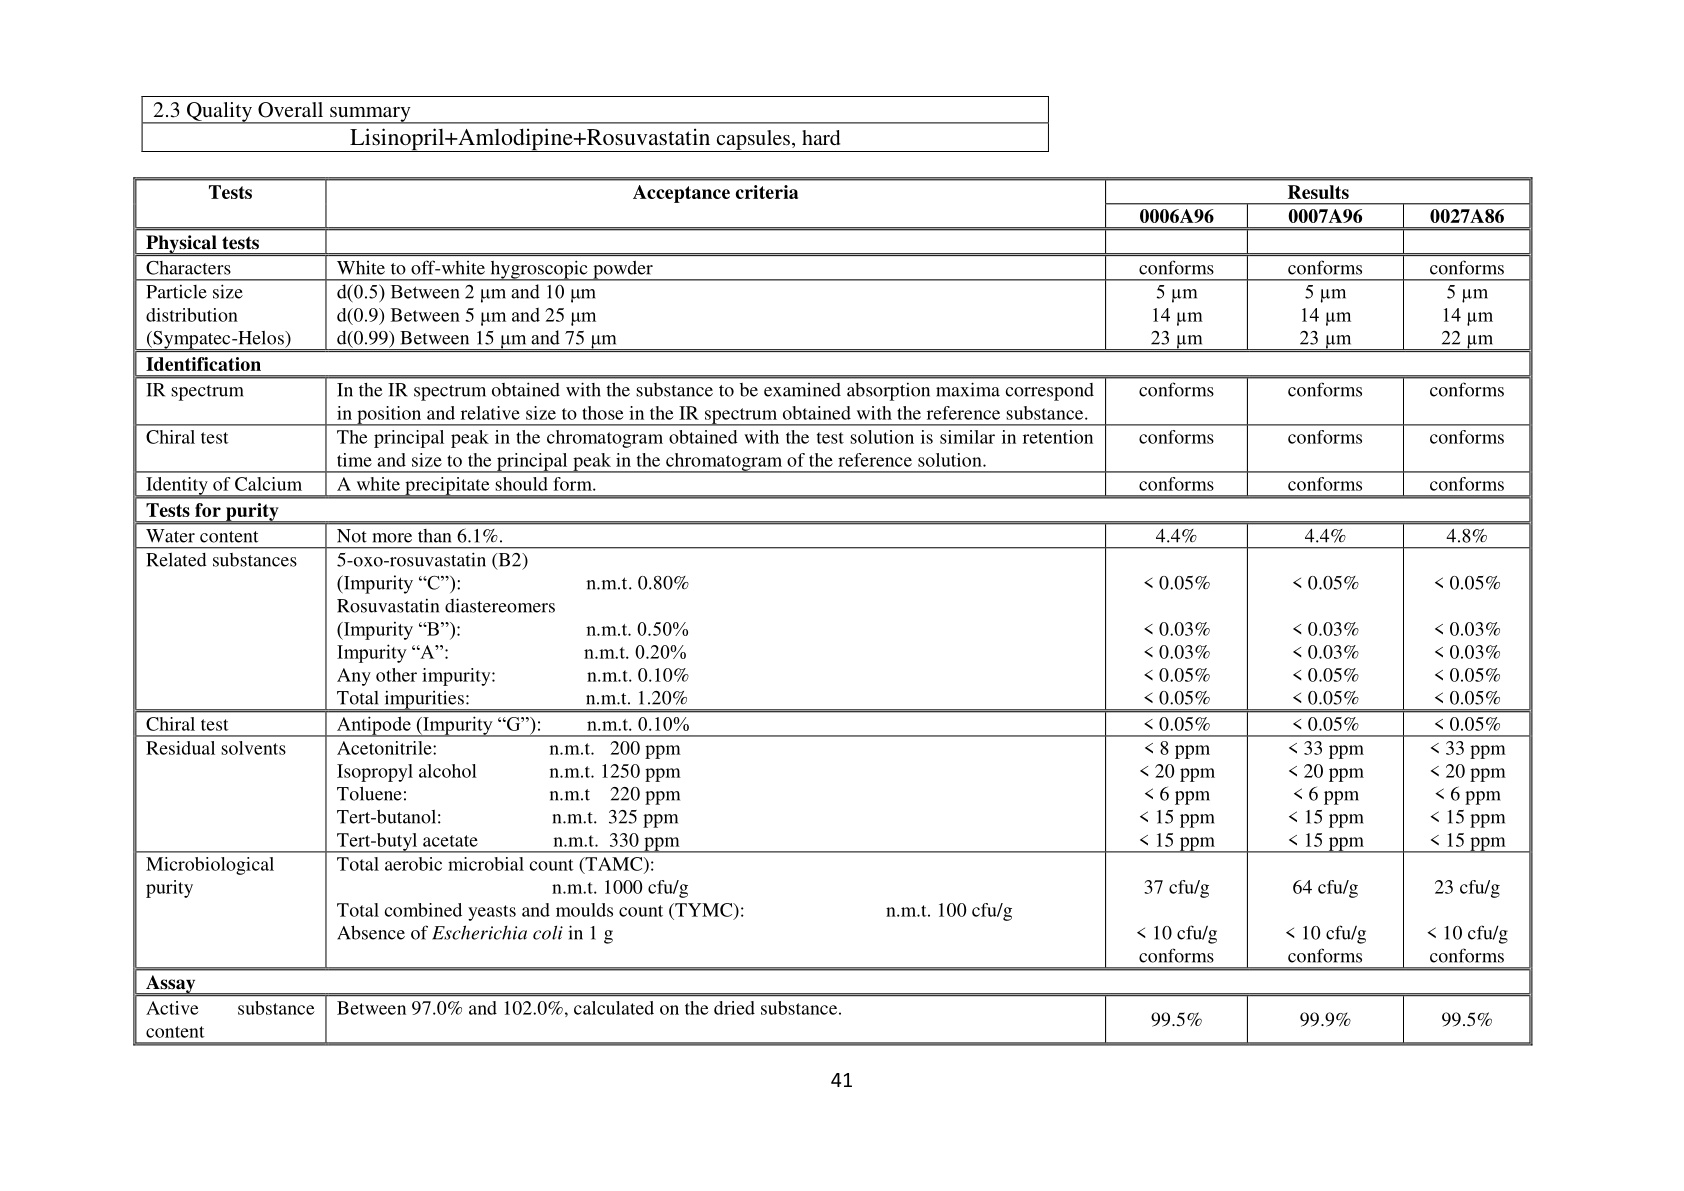full_lined: (140, 95, 1050, 151)
merged_cells: (133, 177, 1533, 1047)
